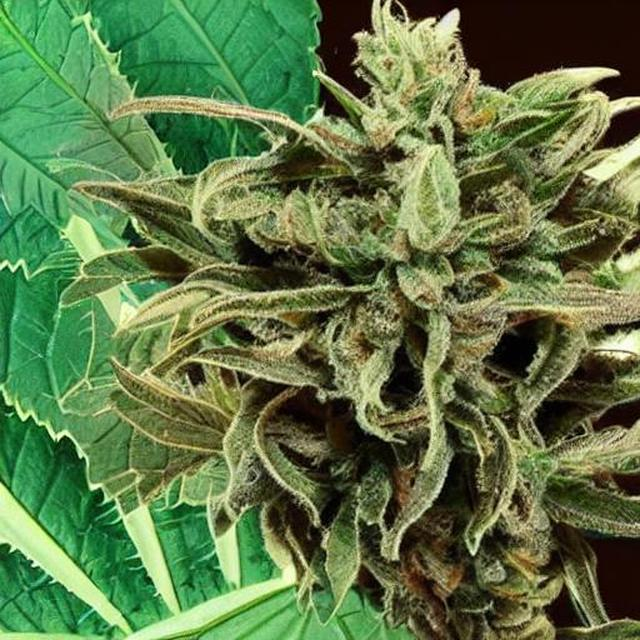Marijuana Plant: (31, 12, 640, 639)
